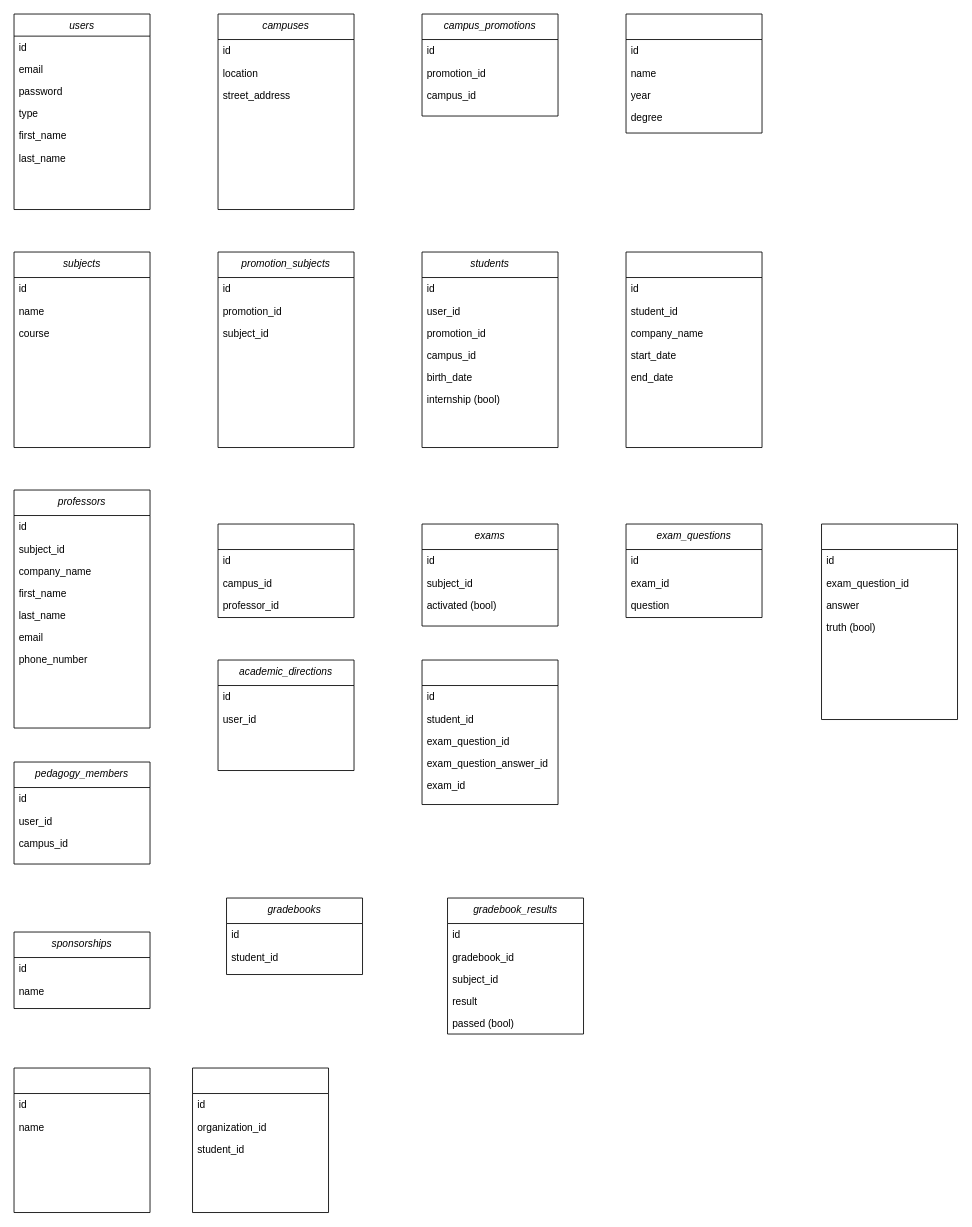
This 972x1227 diagram has some shape labels left out. Each missing label, with the box of its shape:
campus_professors: (217, 523, 354, 618)
exam_question_answers: (821, 523, 958, 720)
exams_history: (421, 659, 558, 805)
internships: (625, 251, 762, 448)
organization_students: (192, 1067, 329, 1213)
organizations: (13, 1067, 150, 1213)
promotions: (625, 13, 762, 133)
